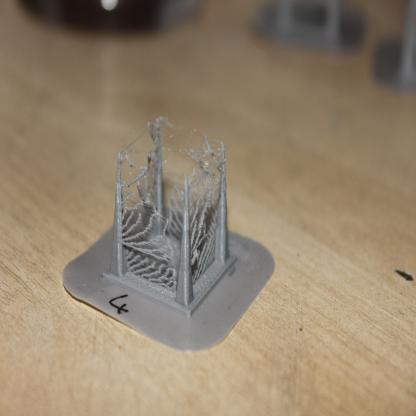fail: (126, 206, 177, 256), (192, 147, 224, 205)
